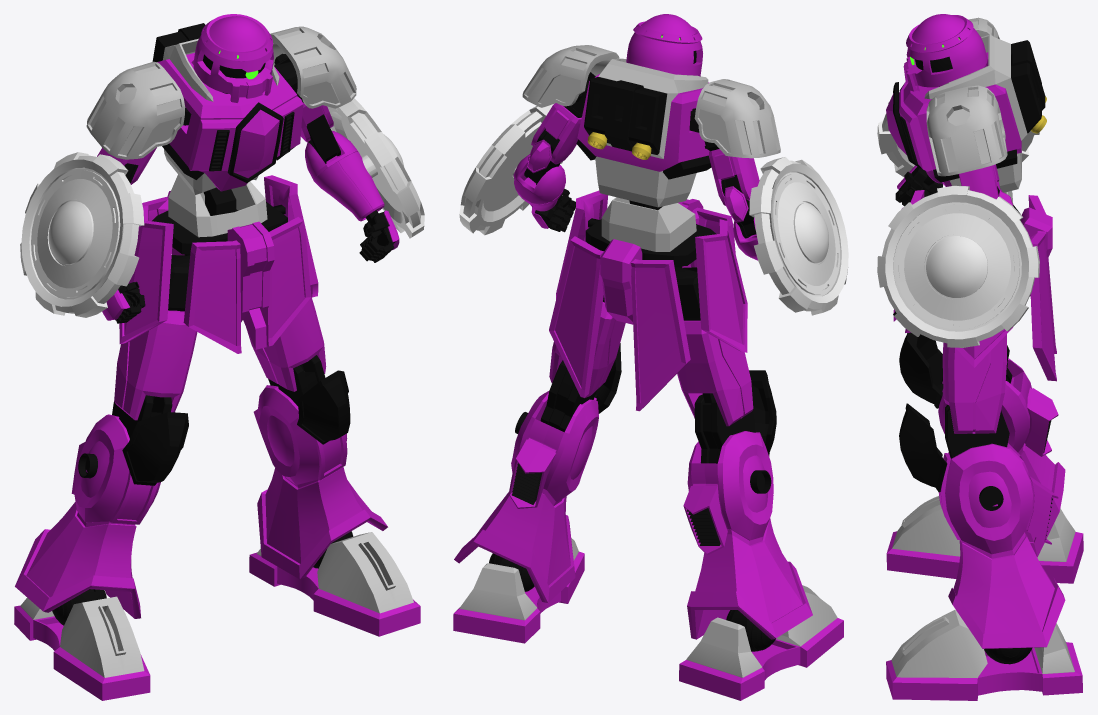
Rendered from Pawn-GuardType_Equipo1.fbx.
3 renders of one model, left to right at view 1: azimuth 30°, elevation 25°; view 2: azimuth 150°, elevation 25°; view 3: azimuth 270°, elevation 25°, orthographic. The views are drawn at different scales.
Parts seen in each view (by area): view 1: Arm_Shield_DER, Pierna_Femur_Armor_DER, Pierna_Femur_Armor_IZQ, Waist_Front_Armor_GuardType, Arm_Shoulder_Armor_GuardType_DER, Torso_Main, Pierna_Muslo_Armor_DER, Waist_Armor_Lat_IZQ (×2), Cabeza_GuardType, Pierna_Pie_Top_IZQ, Pierna_Pie_Top_DER, Arm_Shield_IZQ (+20 smaller); view 2: Pierna_Femur_Armor_DER, Pierna_Femur_Armor_IZQ, Waist_Back_Armor_GuardType, Arm_Shield_DER, Waist_Armor_Lat_IZQ (×2), Arm_Shield_IZQ, Arm_Shoulder_Armor_GuardType_DER, Pierna_Muslo_Armor_DER, Torso_BackPack_Main, Pierna_Pie_Bottom_DER, Pierna_Pie_Top_DER, Torso_Abdomen_Inf_Armadura (+24 smaller); view 3: Arm_Shield_IZQ, Pierna_Femur_Armor_IZQ, Arm_Shoulder_Armor_GuardType_IZQ, Pierna_Pie_Top_IZQ, Pierna_Pie_Bottom_IZQ, Pierna_Femur_Armor_DER, Pierna_Muslo_Armor_IZQ, Cabeza_GuardType, Pierna_Pie_Top_DER, Torso_Main, Pierna_Pie_Bottom_DER, Waist_Back_Armor_GuardType (+18 smaller).
Boxes of the visible parts, left/top/right/bottom form: Arm_Shield_DER: left=20, top=152, right=144, bottom=317; Pierna_Femur_Armor_DER: left=15, top=414, right=160, bottom=618; Pierna_Femur_Armor_IZQ: left=253, top=385, right=387, bottom=579; Waist_Front_Armor_GuardType: left=183, top=217, right=311, bottom=353; Arm_Shoulder_Armor_GuardType_DER: left=86, top=61, right=185, bottom=159; Torso_Main: left=157, top=53, right=303, bottom=191; Pierna_Muslo_Armor_DER: left=114, top=310, right=197, bottom=420; Waist_Armor_Lat_IZQ (×2): left=119, top=175, right=318, bottom=344; Cabeza_GuardType: left=193, top=14, right=273, bottom=102; Pierna_Pie_Top_IZQ: left=257, top=532, right=413, bottom=613; Pierna_Pie_Top_DER: left=20, top=596, right=144, bottom=677; Arm_Shield_IZQ: left=327, top=98, right=424, bottom=238; Pierna_Femur_Armor_DER: left=683, top=431, right=812, bottom=639; Pierna_Femur_Armor_IZQ: left=454, top=391, right=598, bottom=602; Waist_Back_Armor_GuardType: left=549, top=236, right=690, bottom=411; Arm_Shield_DER: left=749, top=157, right=848, bottom=315; Waist_Armor_Lat_IZQ (×2): left=556, top=190, right=747, bottom=352; Arm_Shield_IZQ: left=459, top=104, right=562, bottom=235; Arm_Shoulder_Armor_GuardType_DER: left=694, top=79, right=780, bottom=158; Pierna_Muslo_Armor_DER: left=677, top=320, right=753, bottom=426; Torso_BackPack_Main: left=584, top=77, right=667, bottom=154; Pierna_Pie_Bottom_DER: left=679, top=618, right=843, bottom=700; Pierna_Pie_Top_DER: left=686, top=585, right=837, bottom=677; Torso_Abdomen_Inf_Armadura: left=601, top=197, right=696, bottom=251; Arm_Shield_IZQ: left=877, top=185, right=1039, bottom=347; Pierna_Femur_Armor_IZQ: left=938, top=443, right=1065, bottom=648; Arm_Shoulder_Armor_GuardType_IZQ: left=926, top=85, right=1007, bottom=176; Pierna_Pie_Top_IZQ: left=891, top=610, right=1074, bottom=677; Pierna_Pie_Bottom_IZQ: left=886, top=642, right=1082, bottom=700; Pierna_Femur_Armor_DER: left=938, top=358, right=1065, bottom=557; Pierna_Muslo_Armor_IZQ: left=942, top=334, right=1006, bottom=433; Cabeza_GuardType: left=903, top=14, right=987, bottom=91; Pierna_Pie_Top_DER: left=892, top=496, right=1075, bottom=561; Torso_Main: left=899, top=52, right=1021, bottom=186; Pierna_Pie_Bottom_DER: left=886, top=531, right=1083, bottom=583; Waist_Back_Armor_GuardType: left=1028, top=195, right=1056, bottom=381.
Bounding box in the file's own units: 807 × 1315 × 405.
